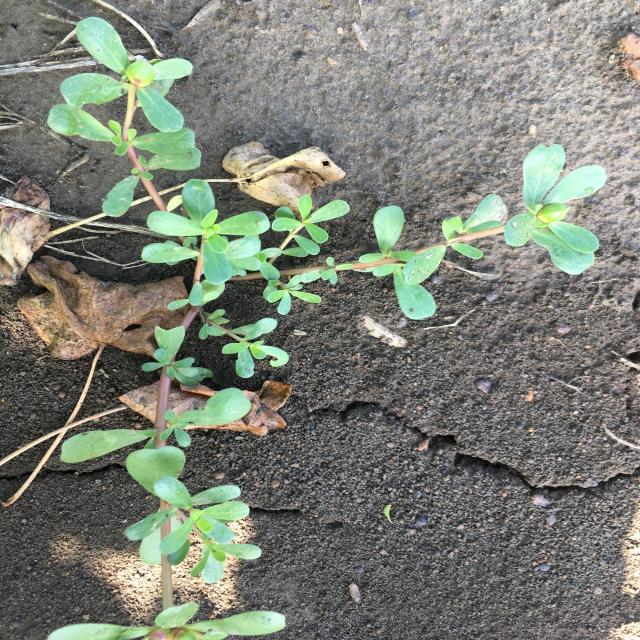Purslane: (48, 16, 608, 640)
